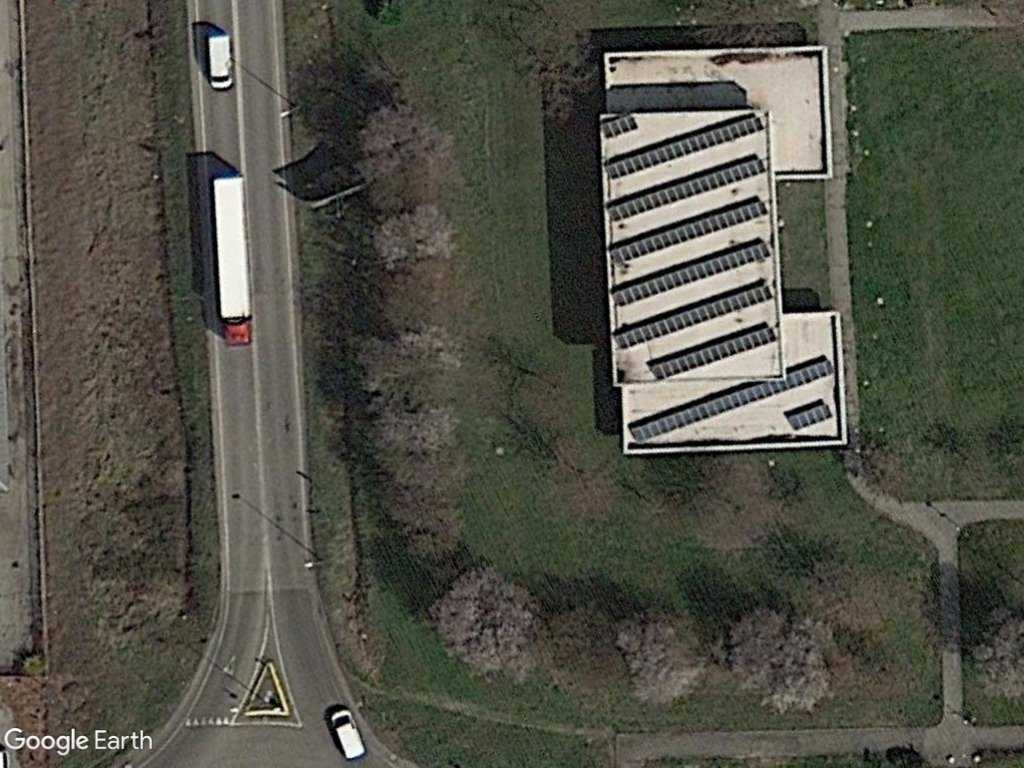truck: (207, 169, 258, 352)
van: (325, 702, 369, 764), (203, 28, 239, 95)
